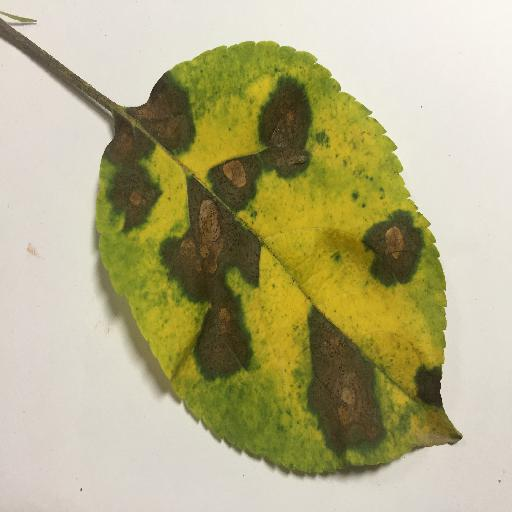Brown_Spot: (297, 332, 384, 436), (151, 204, 250, 289), (349, 209, 430, 291), (190, 289, 243, 372), (106, 117, 189, 159), (258, 105, 300, 169), (207, 158, 253, 207), (110, 174, 146, 226), (411, 363, 445, 401)
